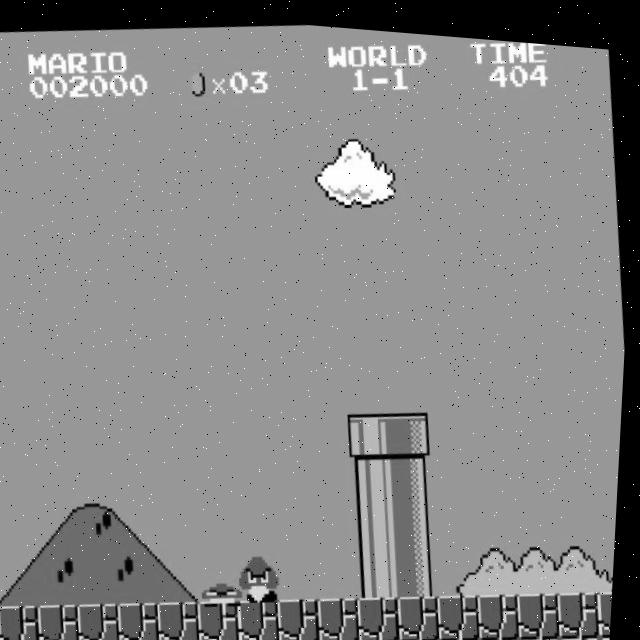14- pipe: (355, 495, 403, 548), (357, 540, 405, 593), (394, 493, 442, 546), (398, 539, 446, 592), (352, 449, 399, 501), (392, 448, 439, 500)
15- pipe_head: (348, 403, 397, 456), (389, 402, 437, 454)
17- undestructible_block: (361, 586, 409, 639), (400, 585, 448, 638), (440, 583, 488, 636), (480, 581, 528, 634), (520, 580, 568, 633), (560, 578, 608, 631), (320, 588, 368, 640), (281, 590, 329, 640), (241, 592, 289, 640), (200, 593, 248, 640), (161, 594, 209, 640), (121, 596, 169, 640), (81, 598, 129, 640), (41, 599, 89, 640), (2, 601, 49, 640), (599, 576, 618, 627), (565, 624, 609, 640), (524, 626, 568, 640), (485, 627, 529, 640), (445, 629, 489, 640), (404, 631, 448, 640), (365, 632, 409, 640), (325, 633, 369, 640), (603, 622, 616, 640), (285, 635, 329, 640), (245, 636, 289, 640), (205, 639, 249, 640)
8- goomba: (238, 545, 288, 601)
